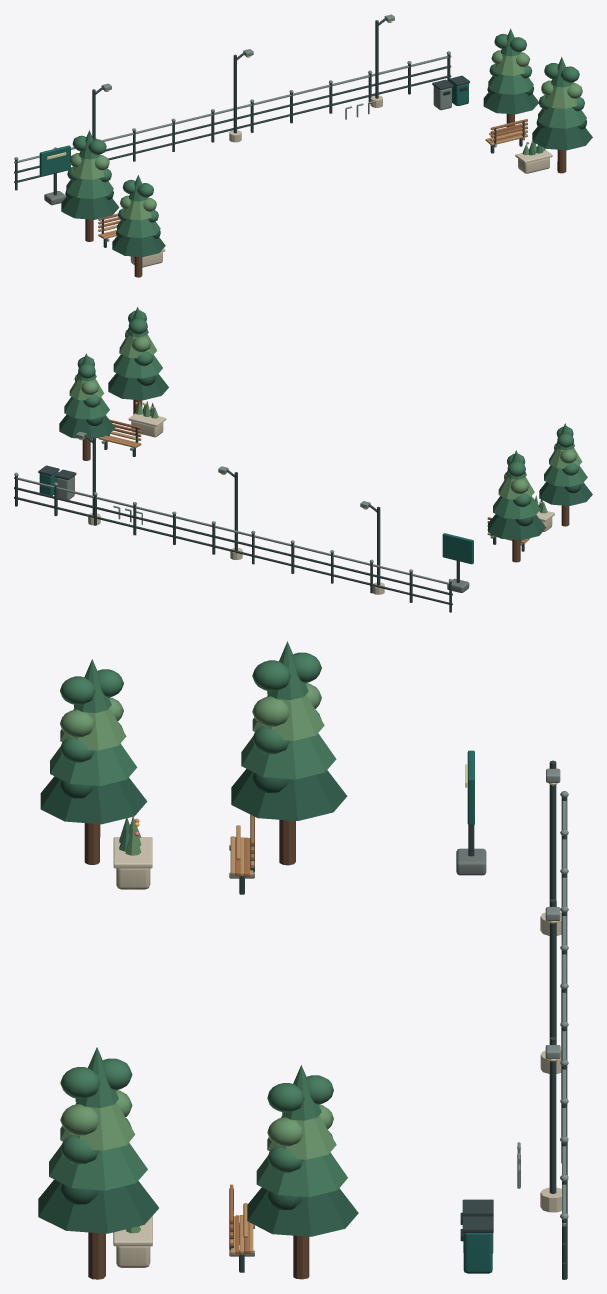
Rendered from seawall-dressing.glb.
3 views of the same model, one above another, from view 1: azimuth 30°, elevation 25°; view 2: azimuth 150°, elevation 25°; view 3: azimuth 270°, elevation 25° (orthographic). The views are drawn at different scales.
Parts seen in each view (by area): view 1: venue-seawall | Seawall | cedar, venue-seawall | Seawall | graphite metal, venue-seawall | Seawall | deep cedar, venue-seawall | Seawall | cedar tips, venue-seawall | Seawall | brushed metal, venue-seawall | Seawall | park sign, venue-seawall | Seawall | warm stone, venue-seawall | Seawall | cedar bark, venue-seawall | Seawall | warm timber, venue-seawall | Seawall | sunlit timber; view 2: venue-seawall | Seawall | cedar, venue-seawall | Seawall | graphite metal, venue-seawall | Seawall | deep cedar, venue-seawall | Seawall | cedar tips, venue-seawall | Seawall | brushed metal, venue-seawall | Seawall | park sign, venue-seawall | Seawall | warm stone, venue-seawall | Seawall | cedar bark, venue-seawall | Seawall | warm timber, venue-seawall | Courtyard | pale stone, venue-seawall | Seawall | sunlit timber; view 3: venue-seawall | Seawall | cedar, venue-seawall | Seawall | deep cedar, venue-seawall | Seawall | cedar tips, venue-seawall | Seawall | graphite metal, venue-seawall | Seawall | brushed metal, venue-seawall | Seawall | cedar bark, venue-seawall | Seawall | warm stone, venue-seawall | Seawall | park sign, venue-seawall | Courtyard | pale stone, venue-seawall | Seawall | sunlit timber, venue-seawall | Seawall | warm timber.
Boxes of the visible parts, x1=… form: venue-seawall | Seawall | cedar: x1=66, y1=28, x2=586, y2=237; venue-seawall | Seawall | graphite metal: x1=14, y1=17, x2=524, y2=247; venue-seawall | Seawall | deep cedar: x1=61, y1=86, x2=592, y2=257; venue-seawall | Seawall | cedar tips: x1=69, y1=50, x2=582, y2=220; venue-seawall | Seawall | brushed metal: x1=14, y1=14, x2=524, y2=241; venue-seawall | Seawall | park sign: x1=39, y1=82, x2=468, y2=176; venue-seawall | Seawall | warm stone: x1=130, y1=95, x2=549, y2=267; venue-seawall | Seawall | cedar bark: x1=85, y1=114, x2=566, y2=277; venue-seawall | Seawall | warm timber: x1=98, y1=119, x2=527, y2=238; venue-seawall | Seawall | sunlit timber: x1=98, y1=126, x2=527, y2=239; venue-seawall | Seawall | cedar: x1=64, y1=307, x2=587, y2=519; venue-seawall | Seawall | graphite metal: x1=14, y1=427, x2=524, y2=612; venue-seawall | Seawall | deep cedar: x1=59, y1=373, x2=592, y2=540; venue-seawall | Seawall | cedar tips: x1=69, y1=329, x2=582, y2=513; venue-seawall | Seawall | brushed metal: x1=14, y1=431, x2=522, y2=585; venue-seawall | Seawall | park sign: x1=39, y1=472, x2=473, y2=564; venue-seawall | Seawall | warm stone: x1=88, y1=421, x2=552, y2=594; venue-seawall | Seawall | cedar bark: x1=82, y1=399, x2=569, y2=562; venue-seawall | Seawall | warm timber: x1=101, y1=419, x2=528, y2=542; venue-seawall | Courtyard | pale stone: x1=128, y1=413, x2=554, y2=521; venue-seawall | Seawall | sunlit timber: x1=98, y1=431, x2=529, y2=543; venue-seawall | Seawall | cedar: x1=49, y1=641, x2=347, y2=1229; venue-seawall | Seawall | deep cedar: x1=38, y1=769, x2=358, y2=1236; venue-seawall | Seawall | cedar tips: x1=60, y1=683, x2=336, y2=1233; venue-seawall | Seawall | graphite metal: x1=229, y1=760, x2=567, y2=1279; venue-seawall | Seawall | brushed metal: x1=229, y1=768, x2=568, y2=1256; venue-seawall | Seawall | cedar bark: x1=84, y1=819, x2=309, y2=1279; venue-seawall | Seawall | warm stone: x1=116, y1=868, x2=561, y2=1267; venue-seawall | Seawall | park sign: x1=463, y1=750, x2=492, y2=1273; venue-seawall | Courtyard | pale stone: x1=113, y1=837, x2=152, y2=1246; venue-seawall | Seawall | sunlit timber: x1=230, y1=825, x2=254, y2=1255; venue-seawall | Seawall | warm timber: x1=230, y1=815, x2=254, y2=1254.
Size of the model in its own units: 24.25 by 5.59 by 11.69.
